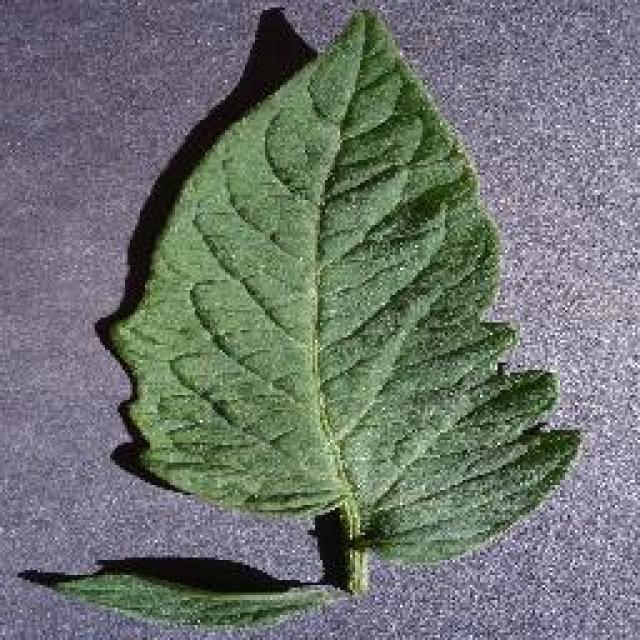Tomato healthy leaf: (114, 19, 568, 579)
